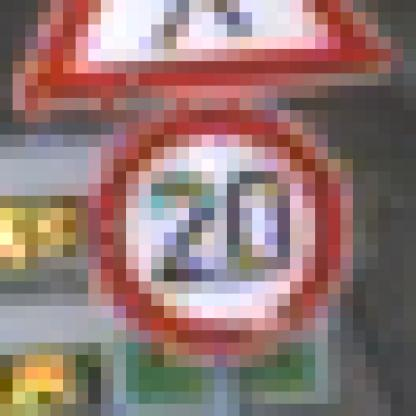Speed Limit 20: (104, 107, 344, 353)
